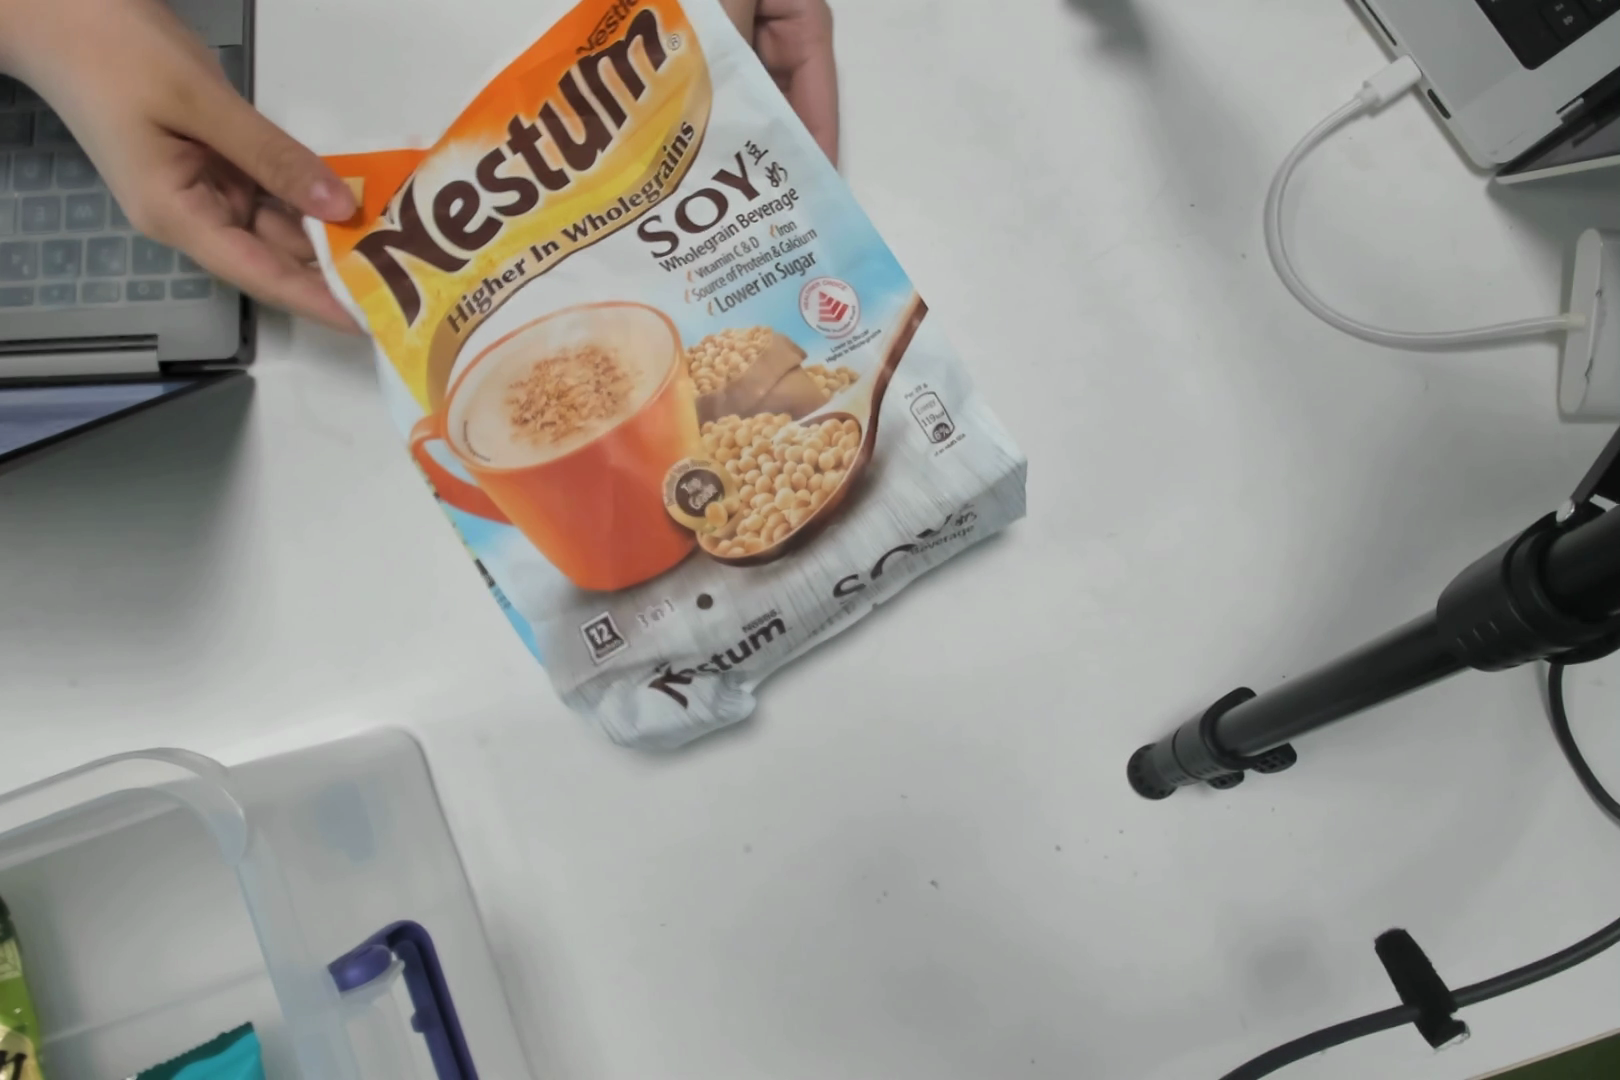e: (362, 14, 987, 717)
